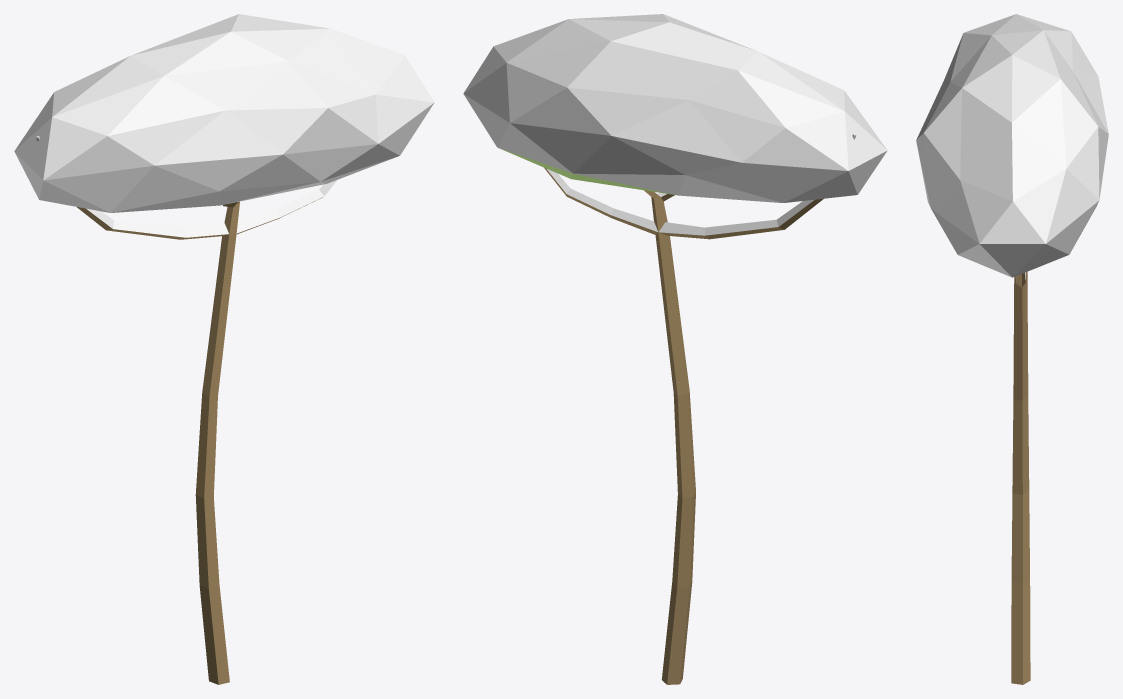
The model's file is Acacia_Tree_m_Snow_01_LOD.fbx.
The picture shows the model from 3 angles, left to right: view 1: azimuth 30°, elevation 25°; view 2: azimuth 150°, elevation 25°; view 3: azimuth 270°, elevation 25°; orthographic projection. The views are drawn at different scales.
Visible parts, largest first — view 1: Acacia_Tree_m_Snow_01_LOD0; view 2: Acacia_Tree_m_Snow_01_LOD0; view 3: Acacia_Tree_m_Snow_01_LOD0.
Part boxes in pixels (x1,y1,x2,y2): Acacia_Tree_m_Snow_01_LOD0: (14, 14, 434, 684); Acacia_Tree_m_Snow_01_LOD0: (463, 14, 887, 684); Acacia_Tree_m_Snow_01_LOD0: (916, 14, 1108, 684).
Size of what is drawn, in the model's own units: 650 by 1036 by 288.
